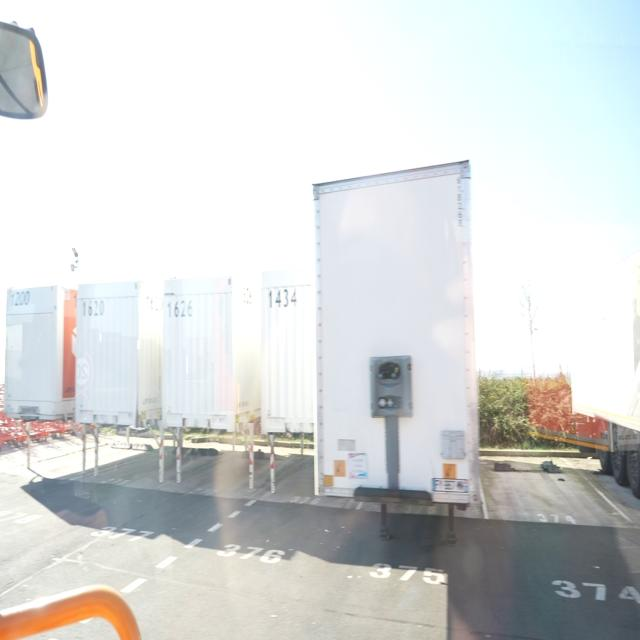Code: (267, 279, 300, 310), (165, 295, 198, 323), (79, 292, 107, 321), (7, 286, 35, 309)
